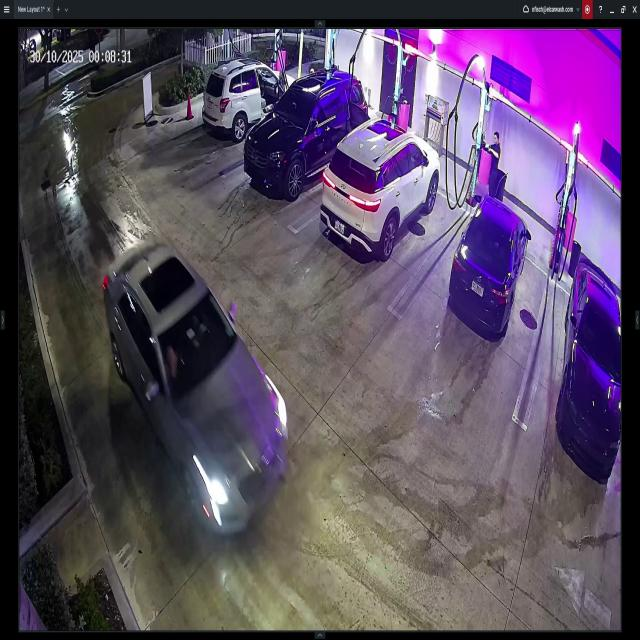Car: (97, 238, 285, 530), (317, 119, 439, 257), (553, 252, 621, 488), (242, 72, 366, 198), (450, 198, 528, 342), (202, 52, 298, 140)
